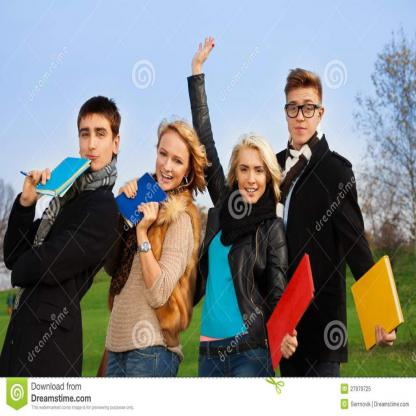face: (82, 113, 113, 171), (158, 133, 187, 192), (289, 87, 318, 145), (239, 149, 265, 202)
